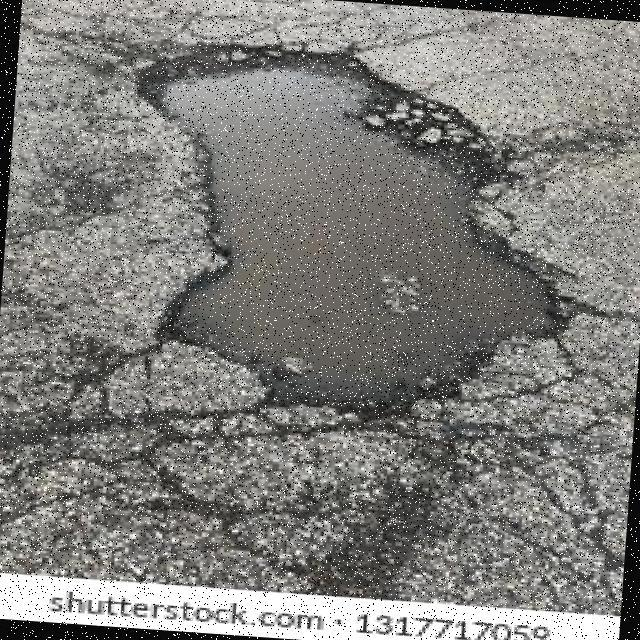Pothole: (132, 46, 580, 420)
